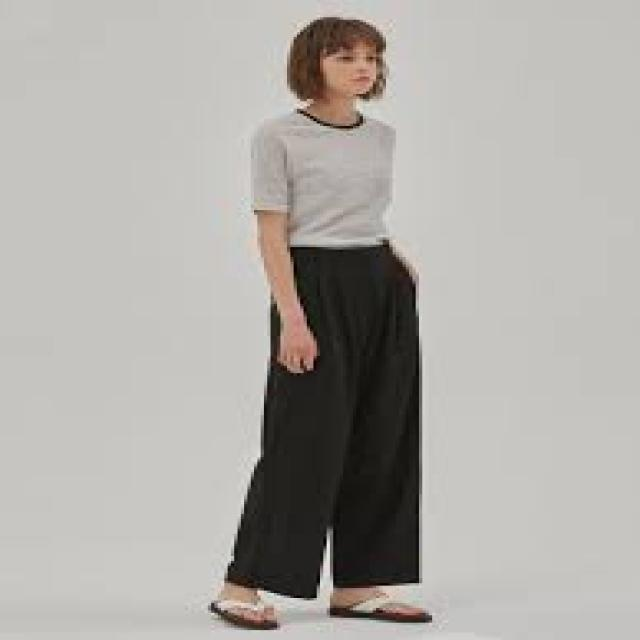long-pants: (228, 241, 426, 601)
